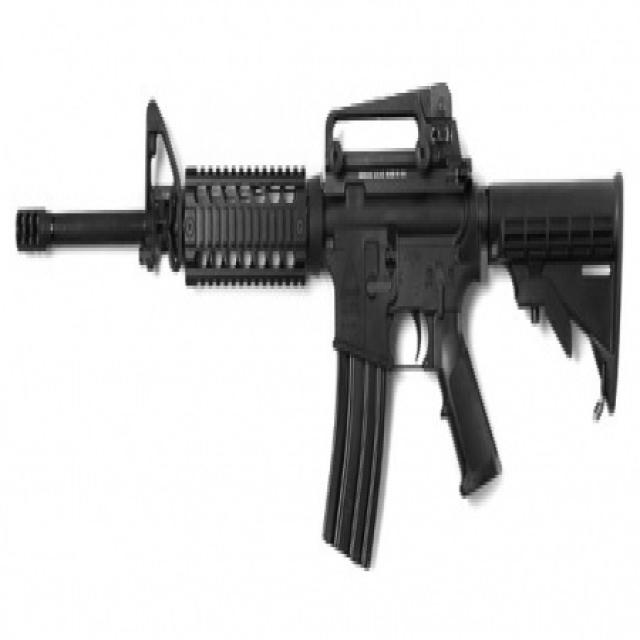rifle: (6, 64, 633, 588)
